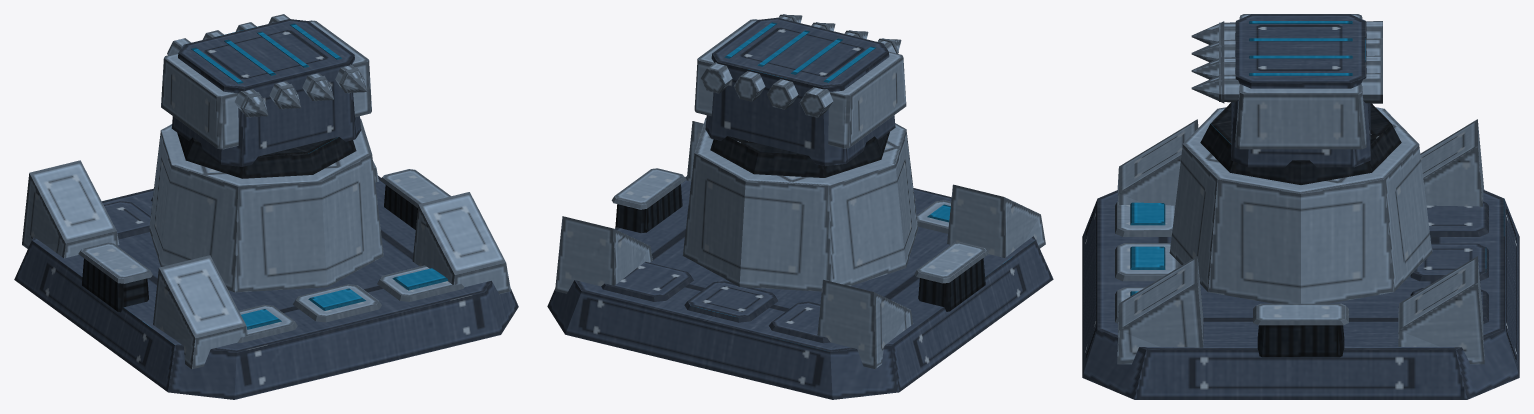
File: building-advanced_sam.fbx
3 renders of one model, left to right at view 1: azimuth 30°, elevation 25°; view 2: azimuth 150°, elevation 25°; view 3: azimuth 270°, elevation 25°, orthographic. The views are drawn at different scales.
Parts seen in each view (by area): view 1: building-advanced_sam; view 2: building-advanced_sam; view 3: building-advanced_sam.
Part boxes in pixels (box(x1,y1,x2,y2)): building-advanced_sam: box(14, 14, 518, 399); building-advanced_sam: box(547, 14, 1053, 399); building-advanced_sam: box(1082, 14, 1519, 399).
Size of the model in its own units: 1456 by 952 by 1456.
Materials: 1 (1 with a texture image).
